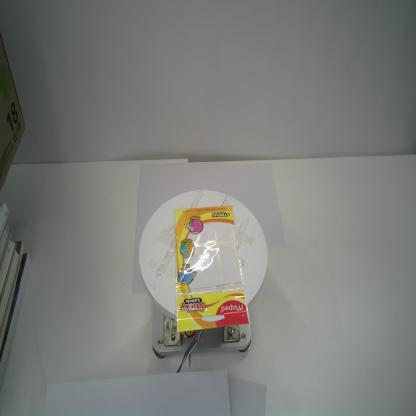Stationery: (174, 204, 252, 336)
